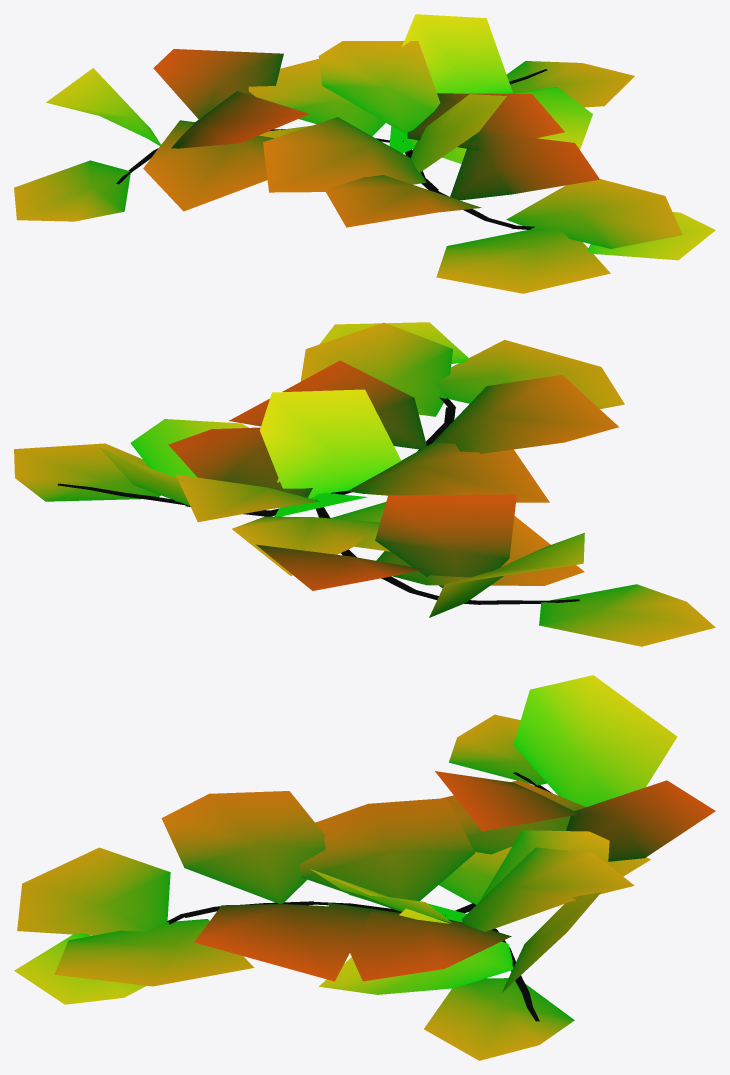
Rendered from Mile-a-minute Vine_LOD1_Var6_sfqns.fbx.
The picture shows the model from 3 angles, top to bottom: view 1: azimuth 30°, elevation 25°; view 2: azimuth 150°, elevation 25°; view 3: azimuth 270°, elevation 25°; orthographic projection. The views are drawn at different scales.
Parts seen in each view (by area): view 1: _6fe4_Var6_LOD1; view 2: _6fe4_Var6_LOD1; view 3: _6fe4_Var6_LOD1.
Part boxes in pixels (left/top/right/bottom): _6fe4_Var6_LOD1: left=14, top=14, right=715, bottom=293; _6fe4_Var6_LOD1: left=14, top=322, right=715, bottom=646; _6fe4_Var6_LOD1: left=14, top=675, right=715, bottom=1060.
Bounding box in the file's own units: 33.97 × 3.98 × 29.12.
